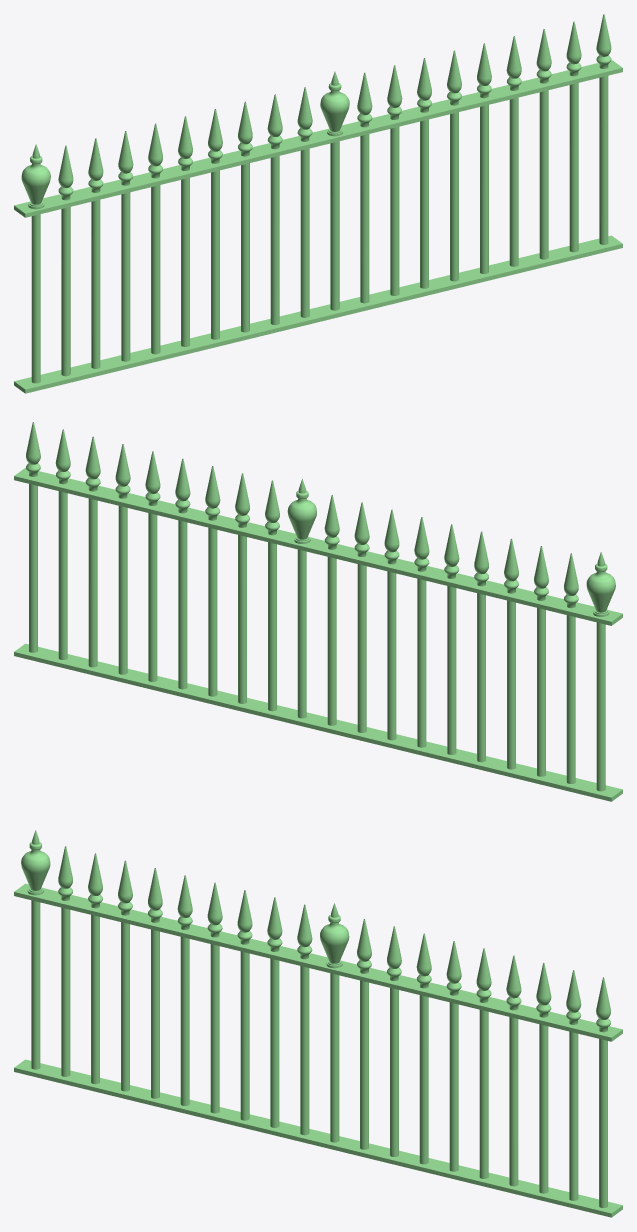
The model's file is fence01.obj.
3 views of the same model, one above another, from view 1: azimuth 30°, elevation 25°; view 2: azimuth 150°, elevation 25°; view 3: azimuth 330°, elevation 25° (orthographic).
Parts seen in each view (by area): view 1: fence001, fence002; view 2: fence001, fence002; view 3: fence002, fence001.
Boxes of the visible parts, box(x1,y1,x2,y2) form: fence001: box(14, 87, 324, 393); fence002: box(313, 14, 622, 320); fence001: box(312, 495, 622, 801); fence002: box(14, 422, 323, 728); fence002: box(312, 903, 622, 1217); fence001: box(14, 830, 323, 1144).
Size of the model in its own units: 455 by 176 by 19.54.
